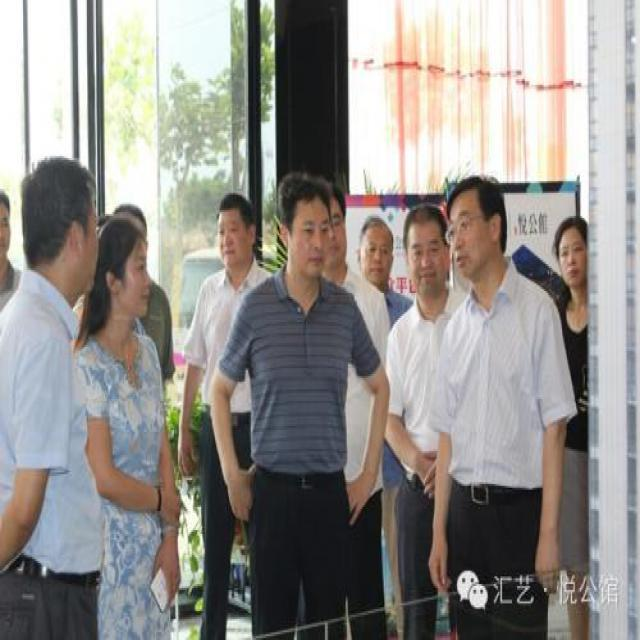head: (15, 149, 101, 302), (445, 165, 507, 282), (276, 161, 330, 286), (97, 203, 151, 321), (398, 200, 450, 304), (549, 205, 592, 304), (212, 186, 258, 273), (355, 209, 397, 290), (318, 184, 352, 275)
person: (428, 170, 568, 631), (250, 167, 385, 608), (6, 147, 106, 628), (182, 188, 273, 631), (96, 208, 189, 616), (382, 201, 456, 633), (537, 207, 602, 635)
